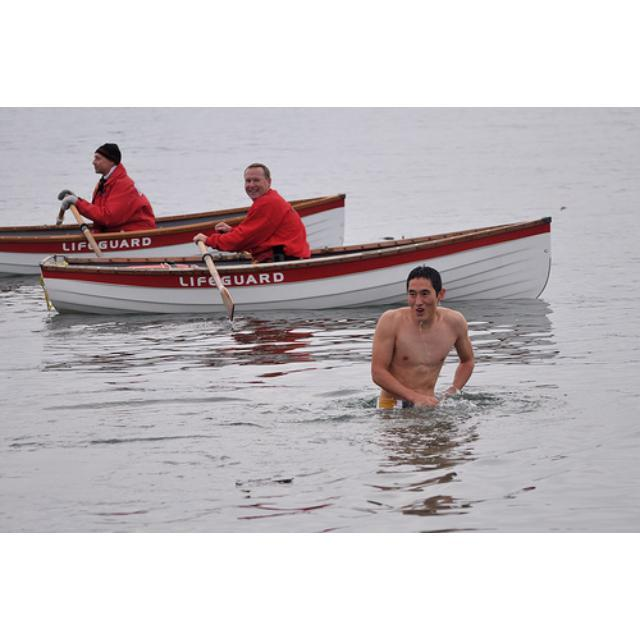human: (373, 265, 477, 408)
